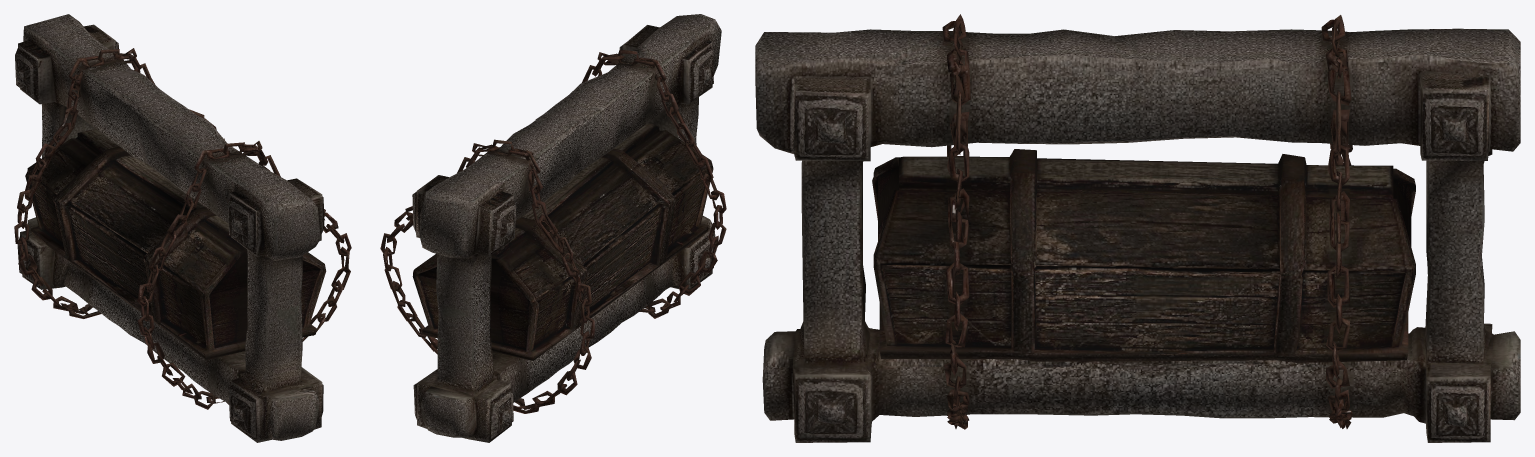
The model's file is tripo_convert_2927cc2f-e63d-42c7-8e50-017cce8a7682.fbx.
3 renders of one model, left to right at view 1: azimuth 30°, elevation 25°; view 2: azimuth 150°, elevation 25°; view 3: azimuth 270°, elevation 25°, orthographic. The views are drawn at different scales.
Parts seen in each view (by area): view 1: tripo_node_2927cc2f; view 2: tripo_node_2927cc2f; view 3: tripo_node_2927cc2f.
Part boxes in pixels (x1=…): tripo_node_2927cc2f: x1=14, y1=14, x2=351, y2=442; tripo_node_2927cc2f: x1=380, y1=14, x2=726, y2=442; tripo_node_2927cc2f: x1=755, y1=14, x2=1520, y2=442.
Bounding box in the file's own units: 0.498 × 0.5801 × 0.998.
1 material, 1 textured.
